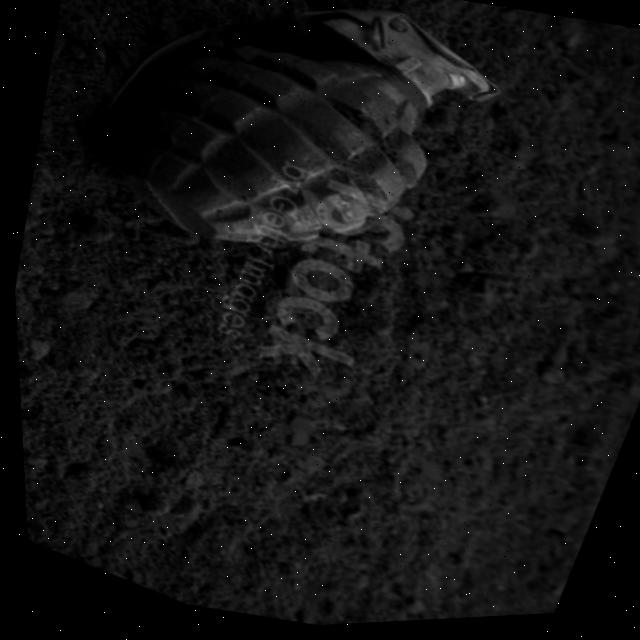grenade: (30, 0, 537, 360)
